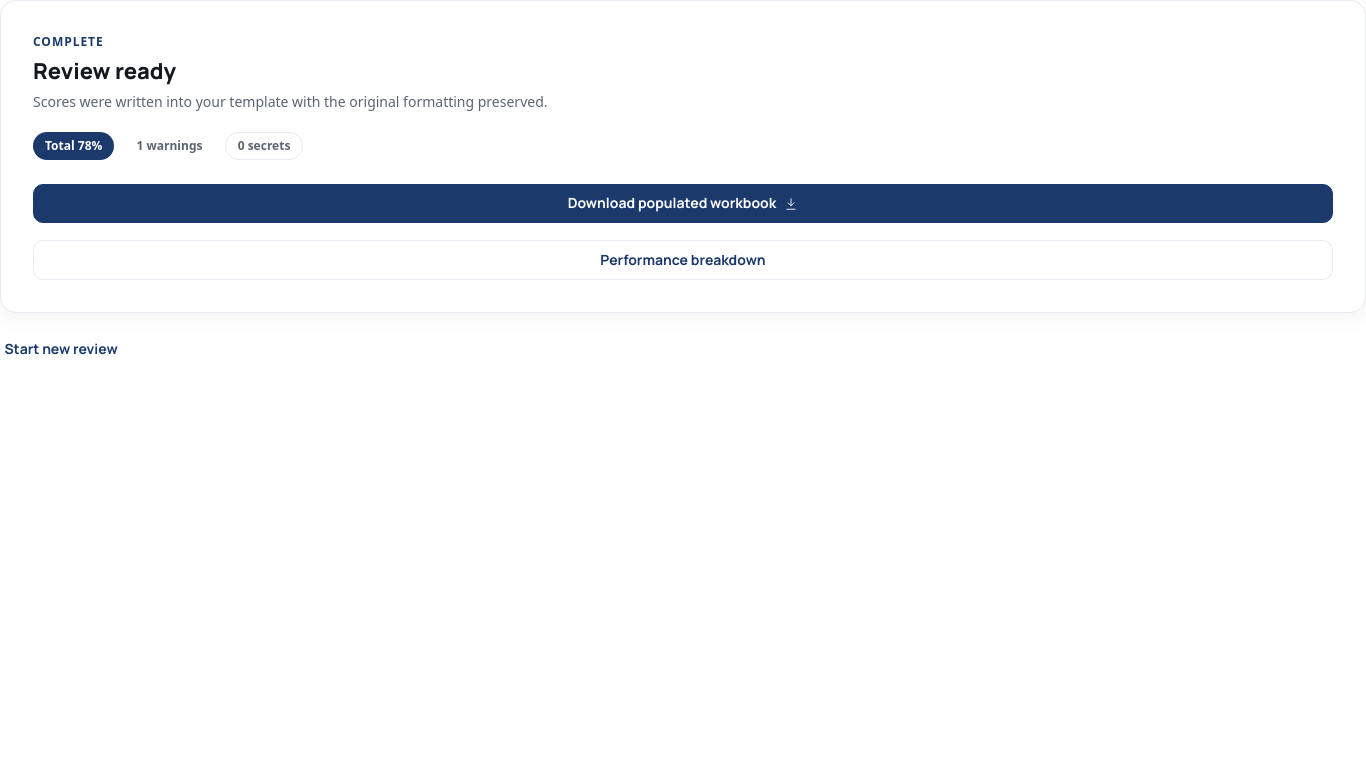
closes the warnings dialog when Close is clicked
Click the button "1 warnings": (170, 146) [124,132,214,160]
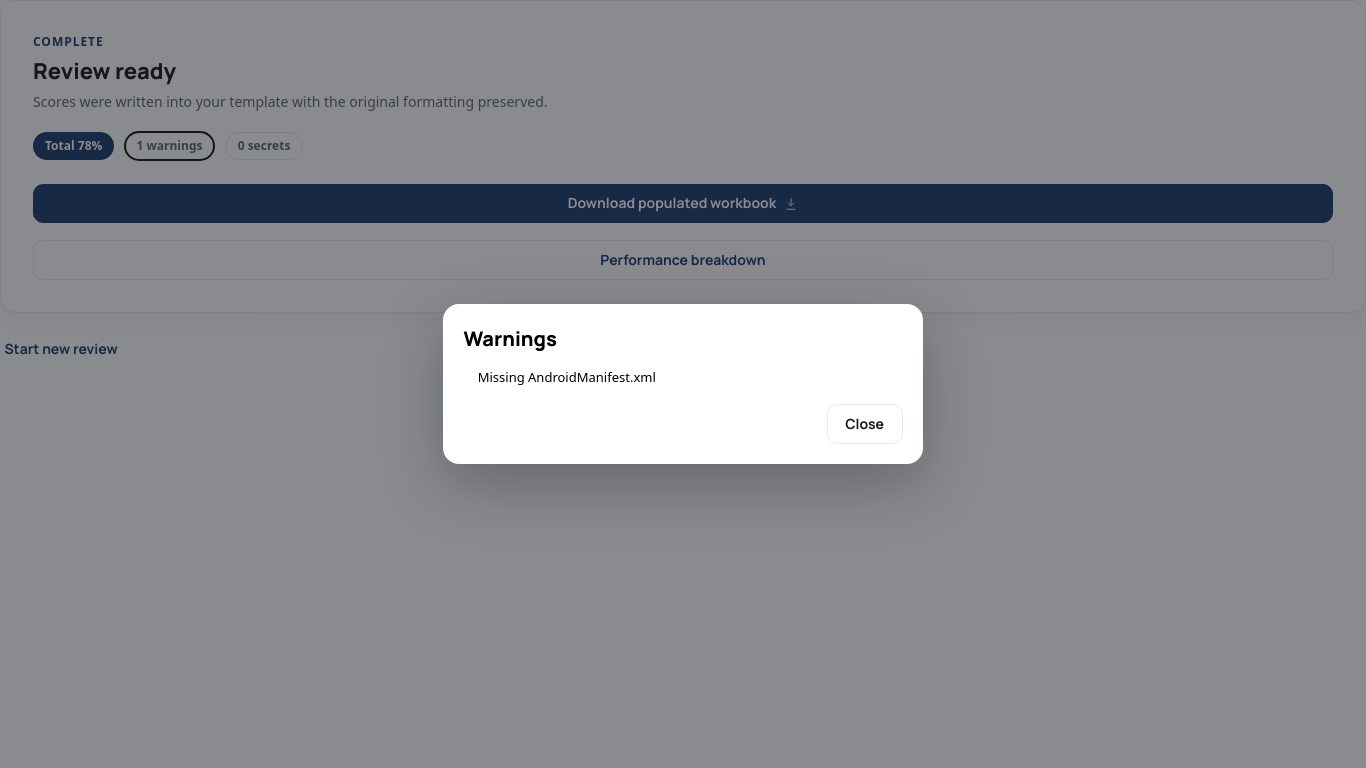
Expected: the list item "Missing AndroidManifest.xml" is shown, [478,368,656,386]
Click the button "Close": (865, 424) [826,404,903,444]
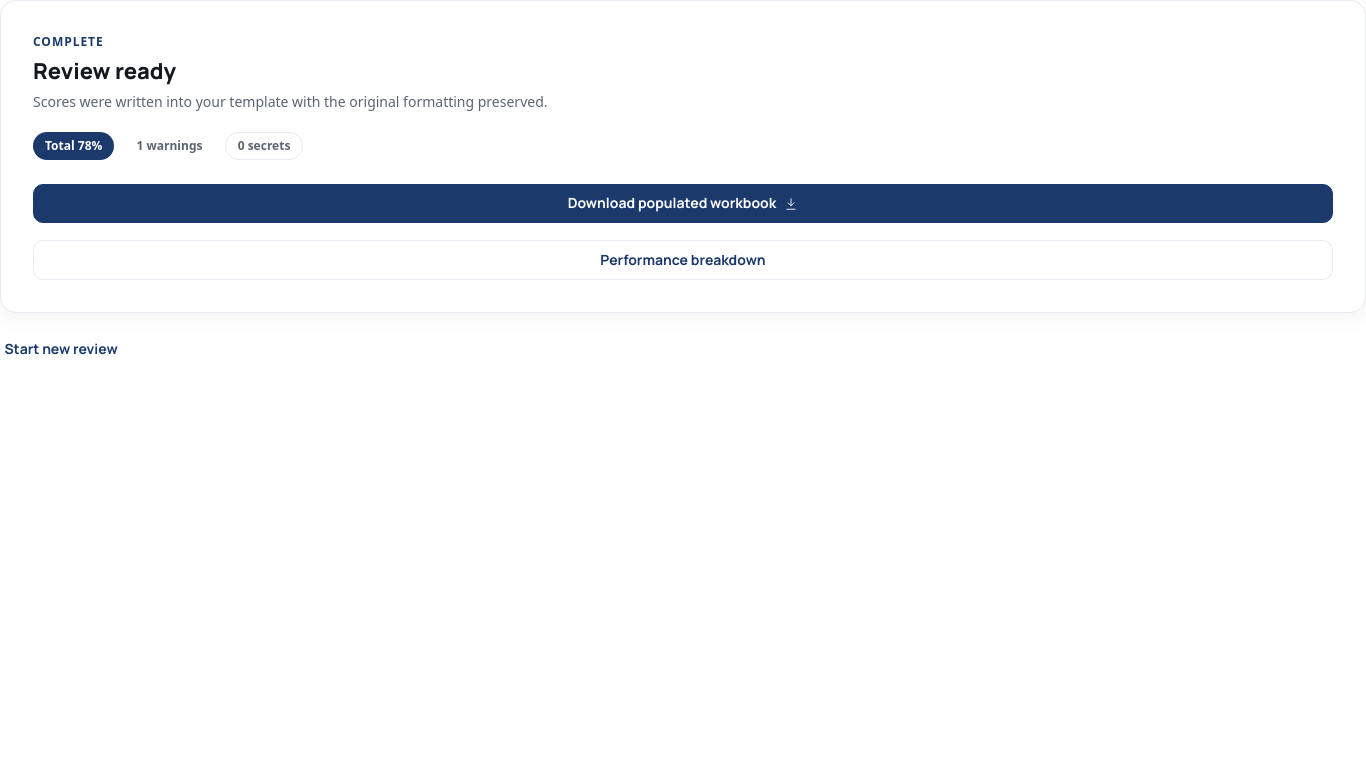
Expected: the list item "Missing AndroidManifest.xml" is gone
